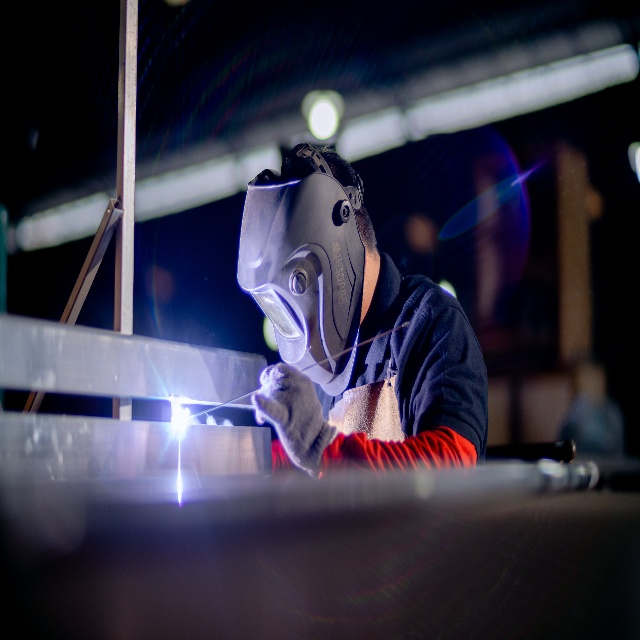Guantes: (250, 361, 336, 480)
